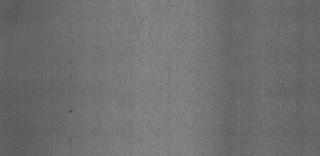oil spot: (68, 134, 76, 146), (66, 106, 74, 114), (66, 72, 74, 80), (68, 58, 72, 68)
